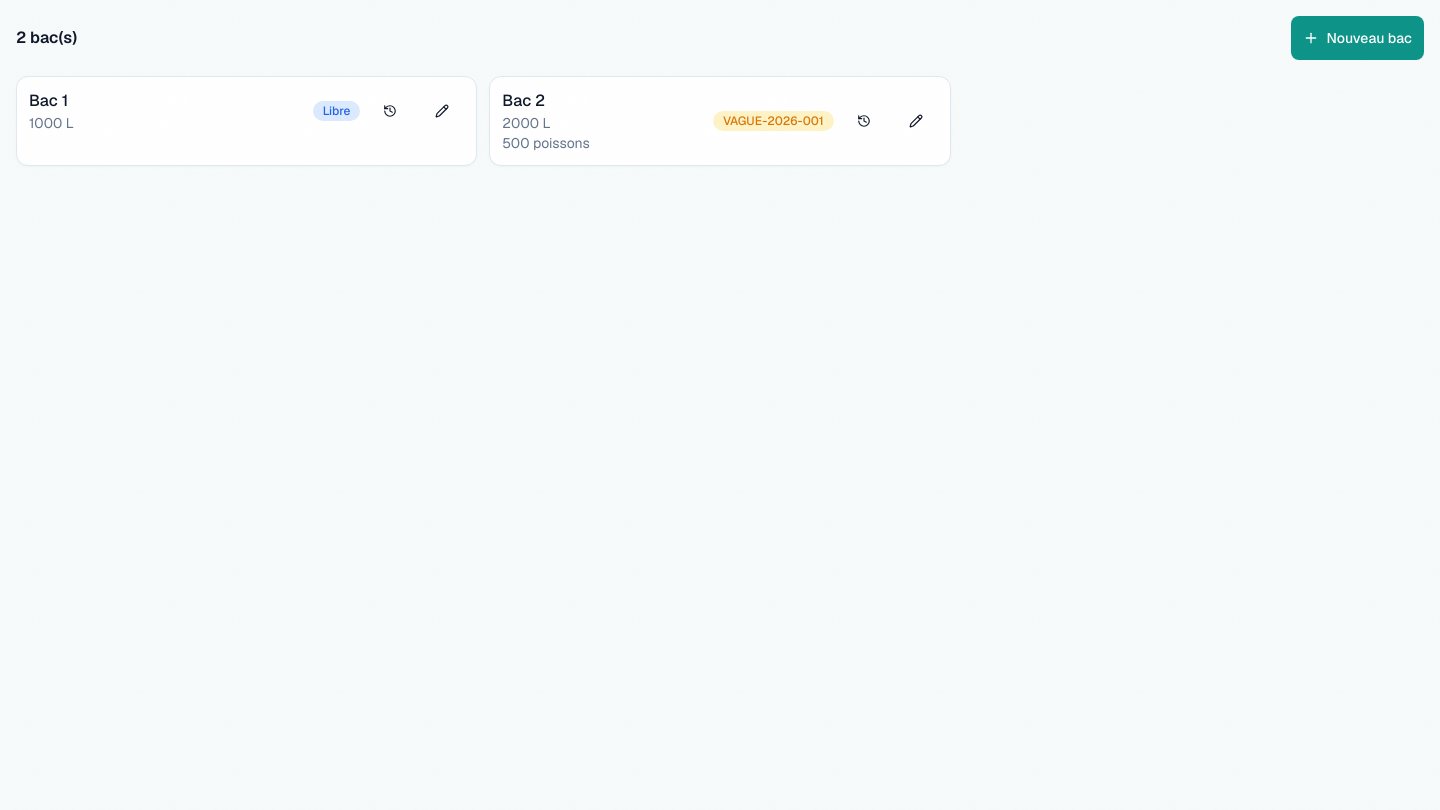
Test: BacsListClient — Formulaire de création › affiche une erreur si le nom est vide à la soumission
Click the button "Nouveau bac": [1357, 38] box [1290,16,1424,60]
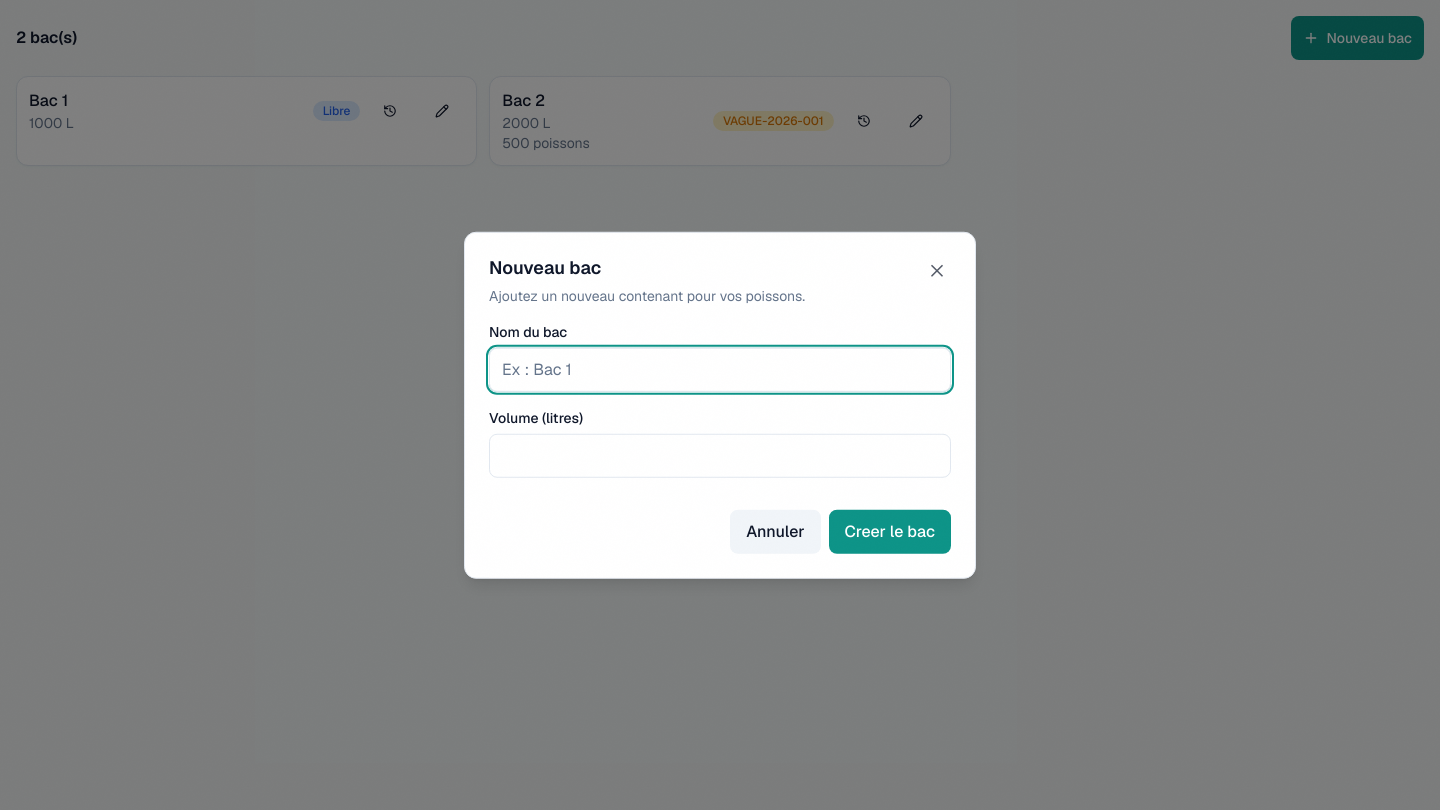
Now the button "Creer le bac" is shown
Click the button "Creer le bac": [890, 531] box [829,509,951,553]
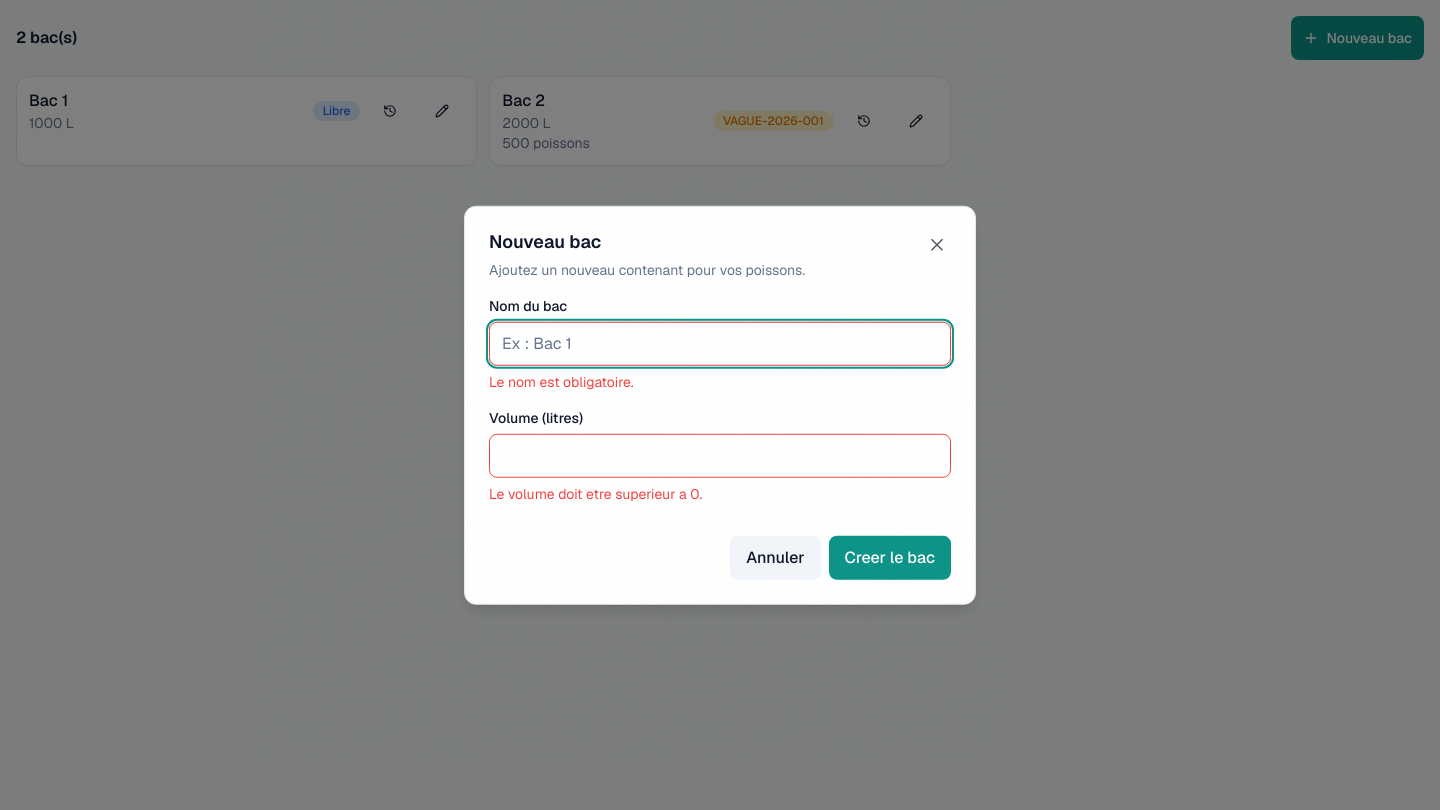
Now the text "Le nom est obligatoire." is shown, box [489,372,634,390]
